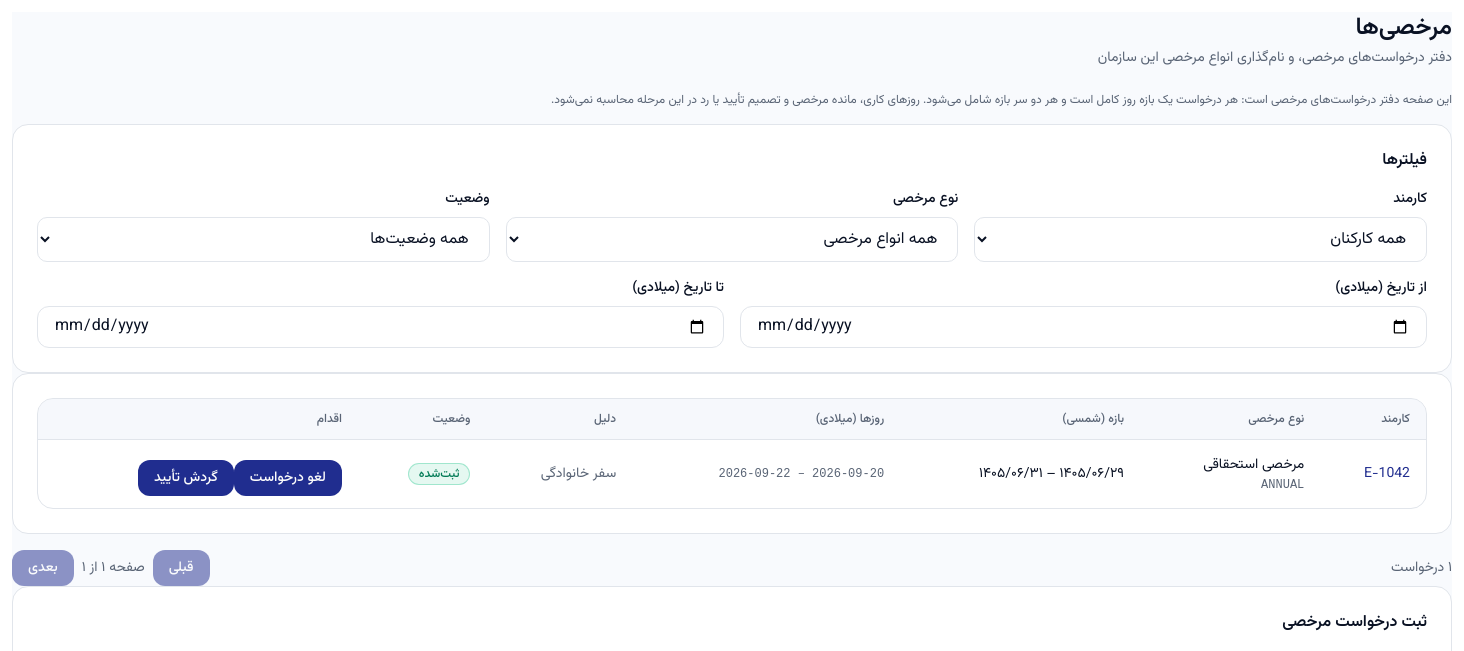
Test: HrLeaveView › withdraws a standing request with the operator’s own stated reason
Expected: the table with test id "hr-leave-table" is shown, [38,399,1426,508]
Click the button with test id "hr-leave-withdraw-lr-1" at (288, 478), box [234,460,342,496]
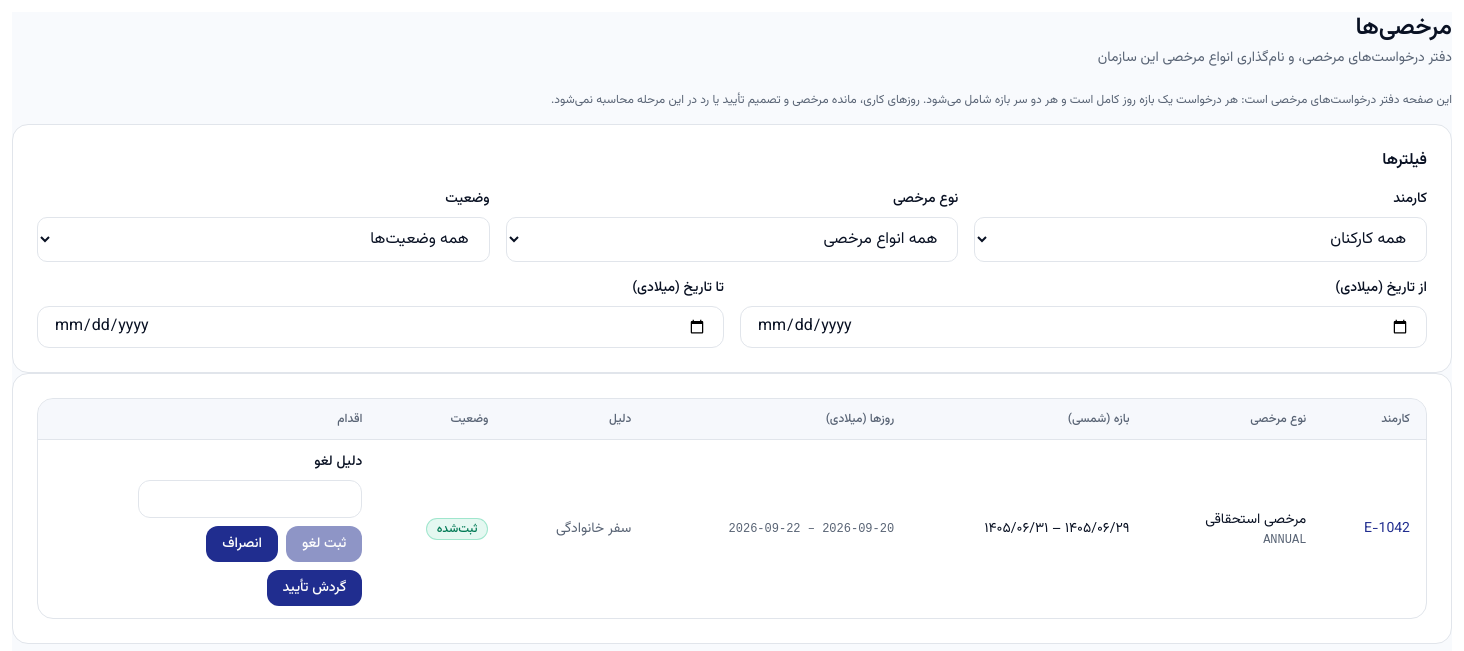
Result: the button with test id "hr-leave-withdraw-submit-lr-1" is disabled at [286,526,362,562]
Type "درخواست خود کارمند" into the field with id "hr-leave-withdraw-reason-lr-1" at (250, 499), box [138,480,362,518]
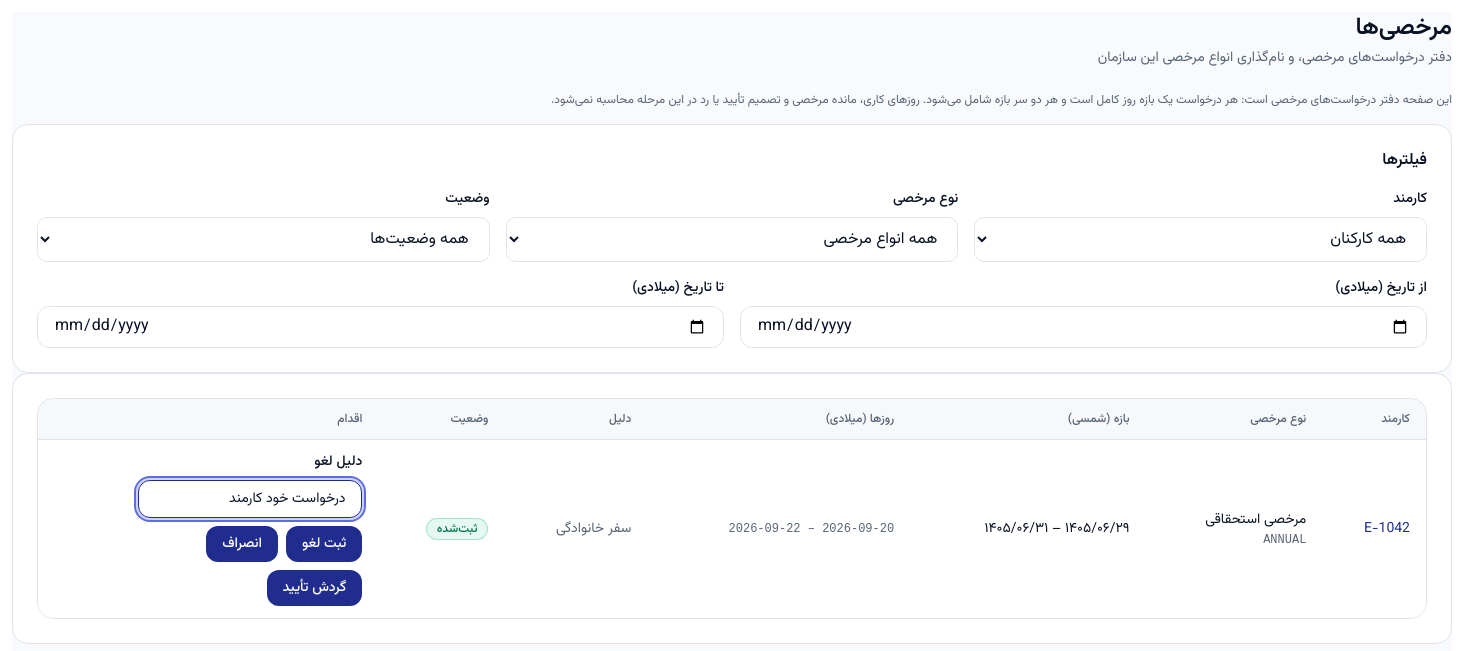
Result: the button with test id "hr-leave-withdraw-submit-lr-1" is enabled
Click the button with test id "hr-leave-withdraw-submit-lr-1" at (324, 544), box [286,526,362,562]
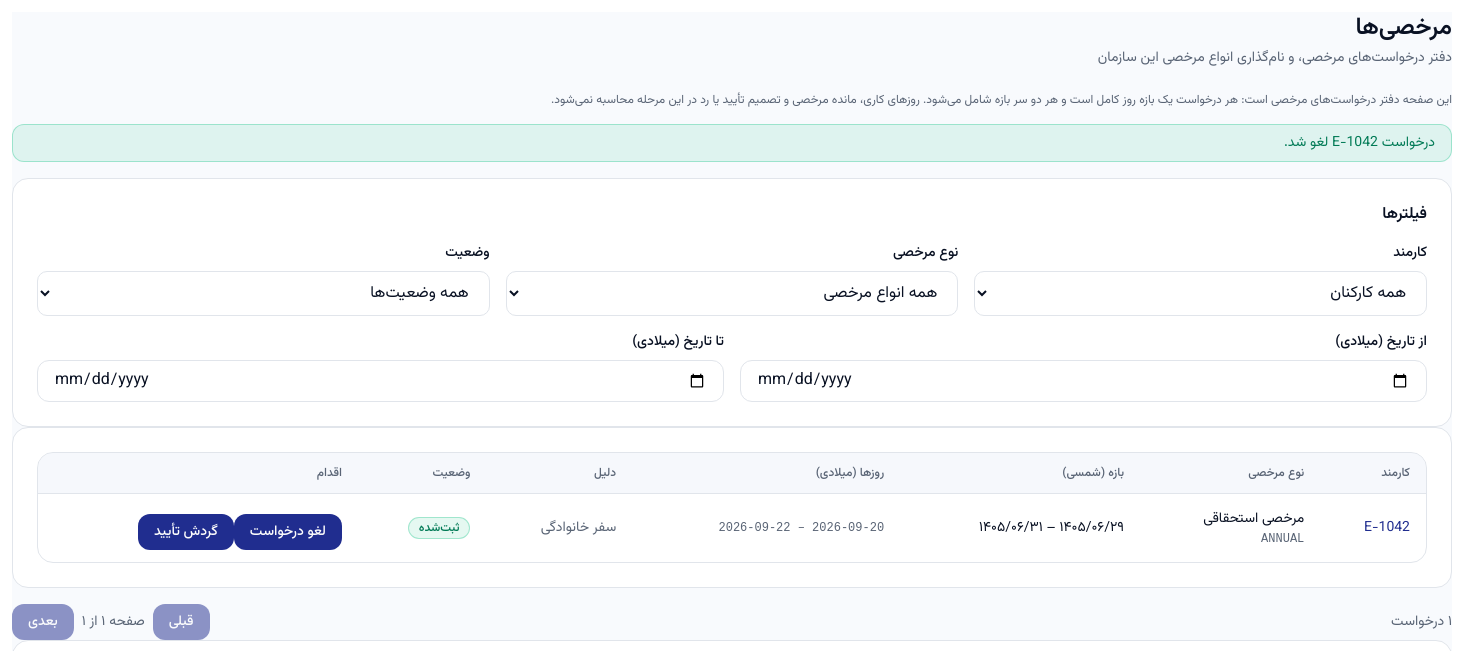
Result: the text "درخواست E-1042 لغو شد." is shown at [12,124,1452,162]
